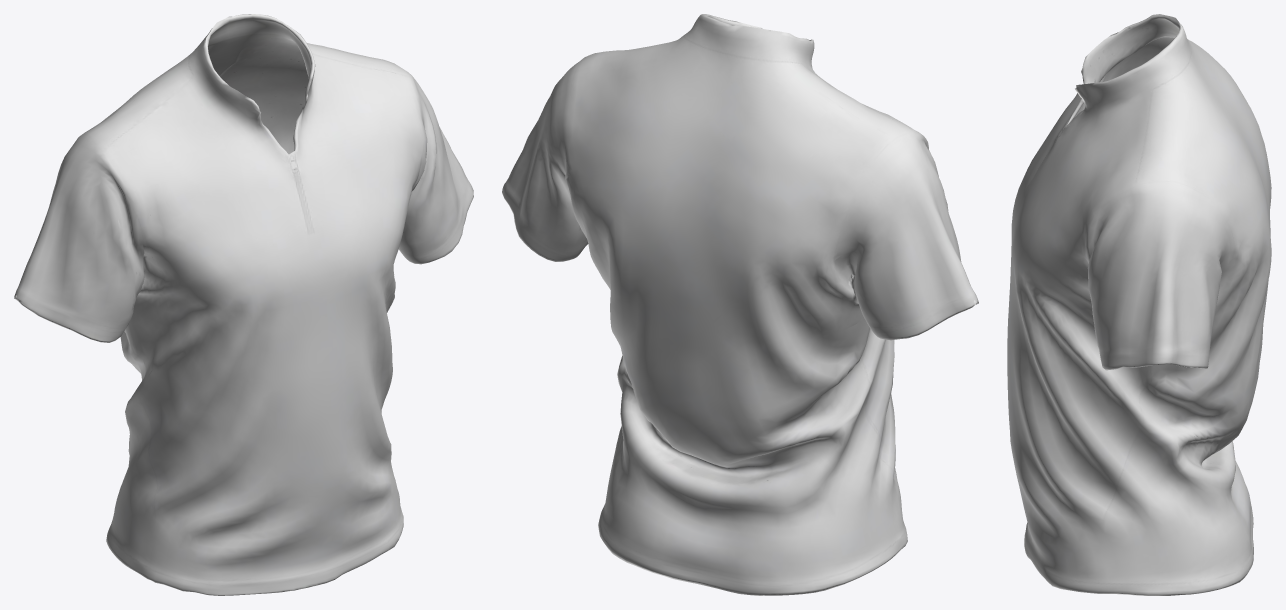
File: polo-shirt-textured.glb
The picture shows the model from 3 angles, left to right: view 1: azimuth 30°, elevation 25°; view 2: azimuth 150°, elevation 25°; view 3: azimuth 270°, elevation 25°; orthographic projection. The views are drawn at different scales.
Visible parts, largest first — view 1: tripo_node_005e8cfe-27cb-4db8-9fc8-b9ff5015b88d; view 2: tripo_node_005e8cfe-27cb-4db8-9fc8-b9ff5015b88d; view 3: tripo_node_005e8cfe-27cb-4db8-9fc8-b9ff5015b88d.
Boxes of the visible parts, x1=… form: tripo_node_005e8cfe-27cb-4db8-9fc8-b9ff5015b88d: x1=14, y1=14, x2=473, y2=595; tripo_node_005e8cfe-27cb-4db8-9fc8-b9ff5015b88d: x1=502, y1=14, x2=978, y2=595; tripo_node_005e8cfe-27cb-4db8-9fc8-b9ff5015b88d: x1=1007, y1=14, x2=1271, y2=595.
Size of the model in its own units: 0.9281 by 0.9991 by 0.4623.
1 material, 1 textured.
